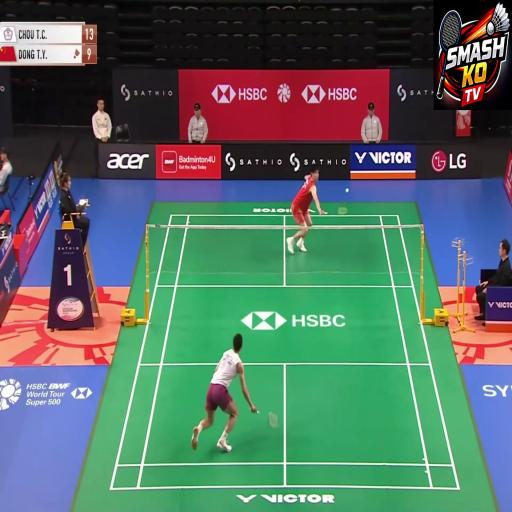player: (267, 131, 335, 285), (188, 308, 254, 460)
